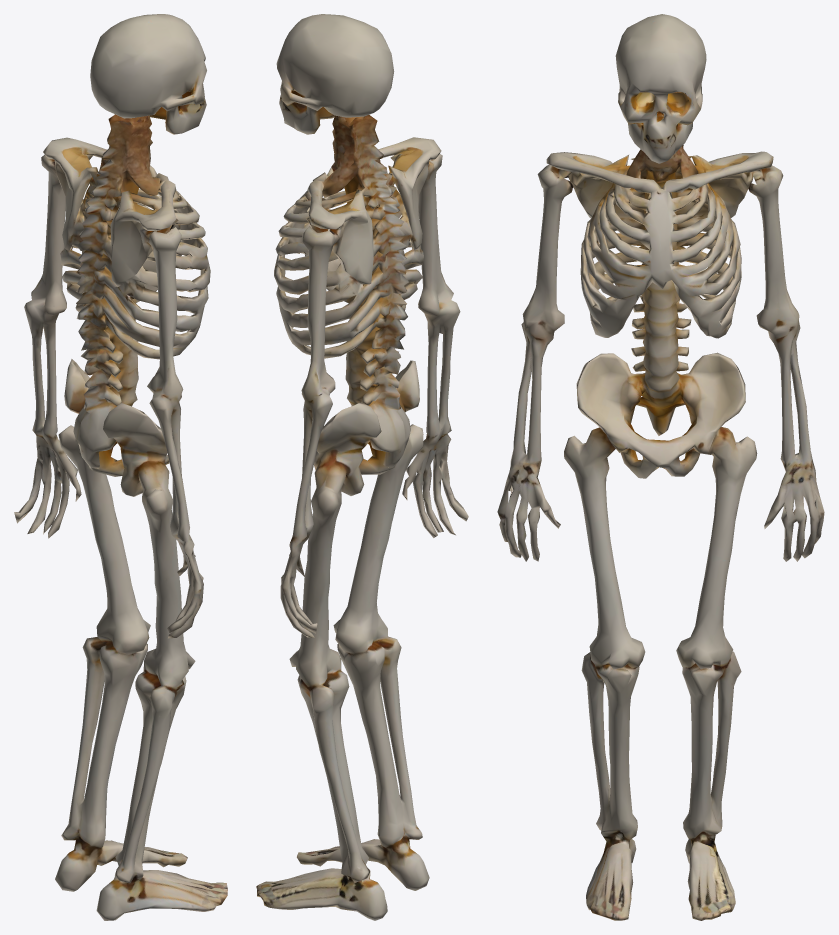
The model's file is skeleton.glb.
3 renders of one model, left to right at view 1: azimuth 30°, elevation 25°; view 2: azimuth 150°, elevation 25°; view 3: azimuth 270°, elevation 25°, orthographic.
Parts seen in each view (by area): view 1: tripo_node_ed55fccc-0491-4de1-b40a-2eec720ec963; view 2: tripo_node_ed55fccc-0491-4de1-b40a-2eec720ec963; view 3: tripo_node_ed55fccc-0491-4de1-b40a-2eec720ec963.
Part boxes in pixels (x1,y1,x2,y2): tripo_node_ed55fccc-0491-4de1-b40a-2eec720ec963: [14, 14, 227, 920]; tripo_node_ed55fccc-0491-4de1-b40a-2eec720ec963: [256, 14, 468, 920]; tripo_node_ed55fccc-0491-4de1-b40a-2eec720ec963: [497, 14, 824, 920].
Bounding box in the file's own units: 0.1582 × 1 × 0.3392.
1 material, 1 textured.
